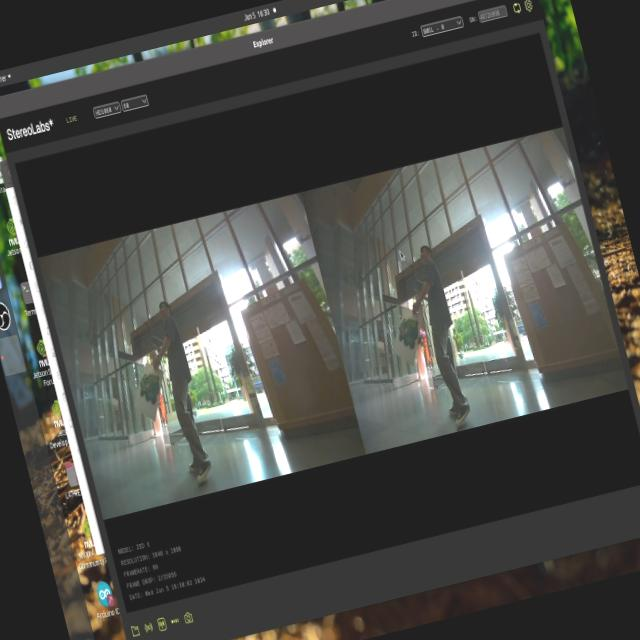green: (389, 307, 425, 354), (136, 366, 170, 406)
